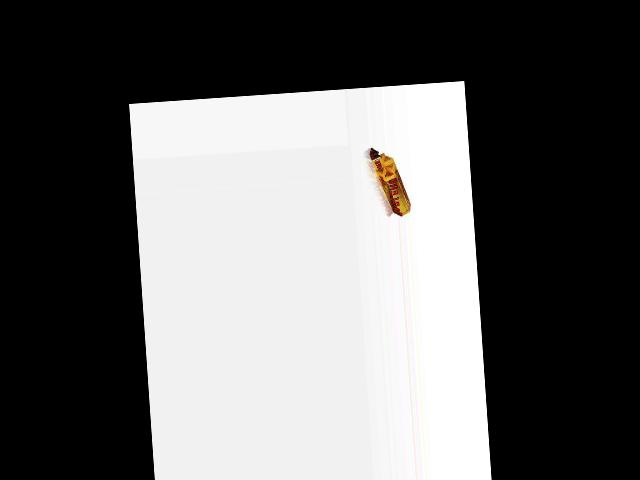chocolate: (365, 145, 412, 217)
